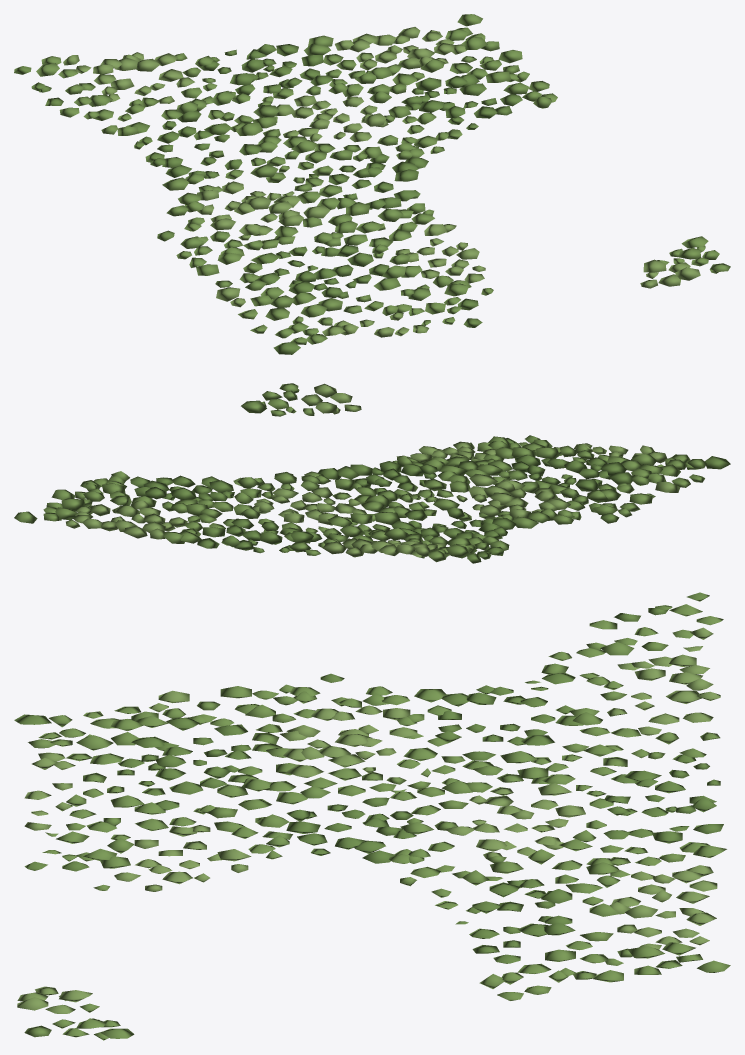
File: canopy-1-2-4.glb
The picture shows the model from 3 angles, top to bottom: view 1: azimuth 30°, elevation 25°; view 2: azimuth 150°, elevation 25°; view 3: azimuth 270°, elevation 25°; orthographic projection. The views are drawn at different scales.
Bounding box in the file's own units: 512 × 132 × 520.
Materials: 1 (1 with a texture image).
